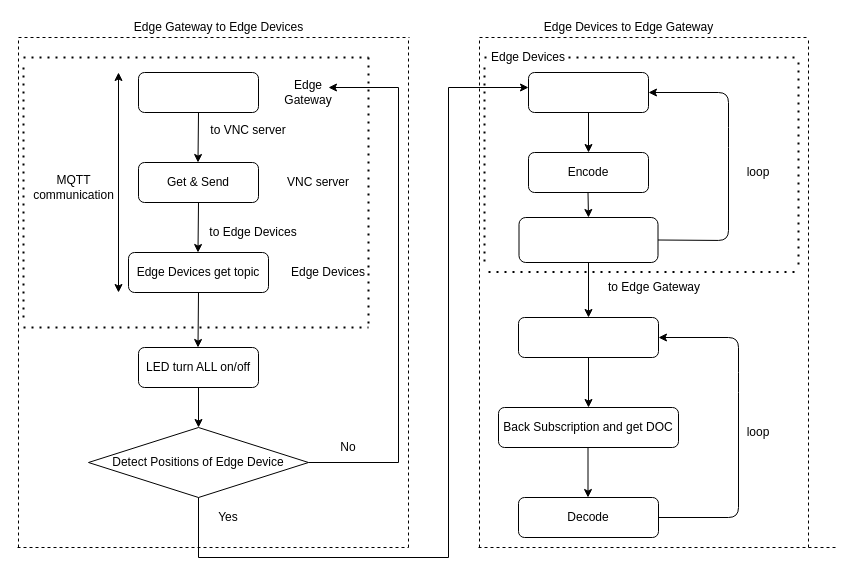
This 857x583 diagram has some shape labels left out. Here are the shapes that lost their labels. From the top down, the centre of each, then its label:
[198,92]: Send topic
[588,92]: Edge get data
[588,239]: Send DOC by LED array
[588,337]: Get Capture by camera
